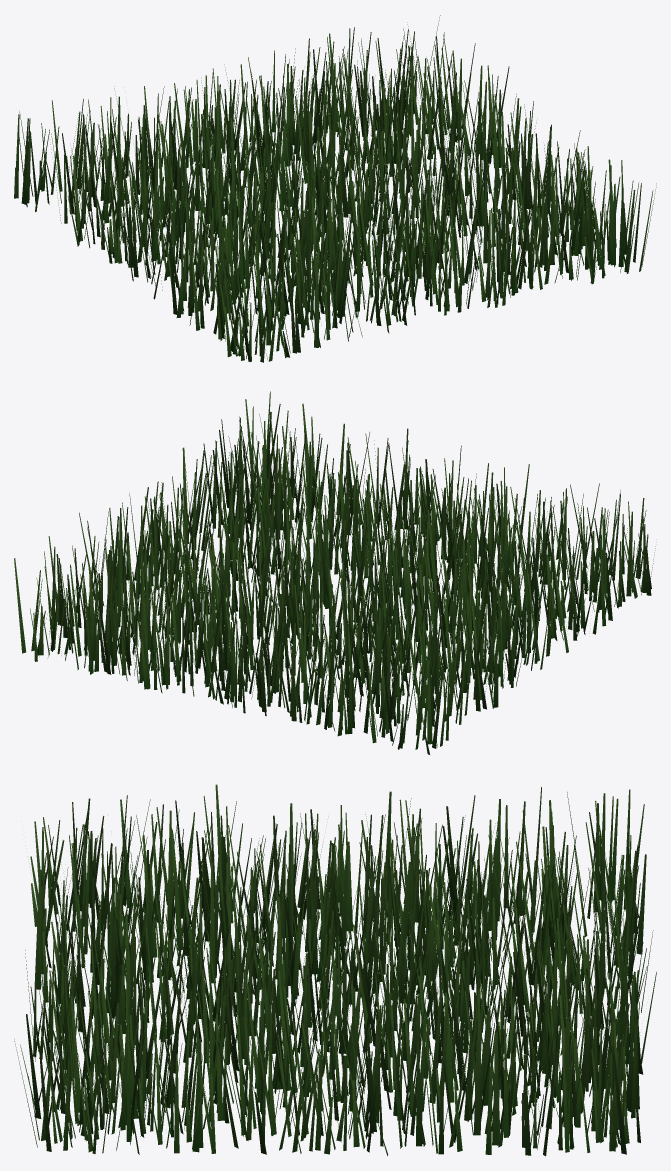
Rendered from Turf_Sedge.glb.
3 renders of one model, top to bottom at view 1: azimuth 30°, elevation 25°; view 2: azimuth 150°, elevation 25°; view 3: azimuth 270°, elevation 25°, orthographic. The views are drawn at different scales.
Visible parts, largest first — view 1: Turf_Sedge; view 2: Turf_Sedge; view 3: Turf_Sedge.
Boxes of the visible parts, x1,y1,x2,y2 form: Turf_Sedge: (14, 15, 656, 362); Turf_Sedge: (14, 391, 655, 754); Turf_Sedge: (14, 784, 656, 1156).
Bounding box in the file's own units: 1.28 × 0.25 × 1.29.
